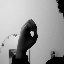o: (18, 18, 39, 49)
